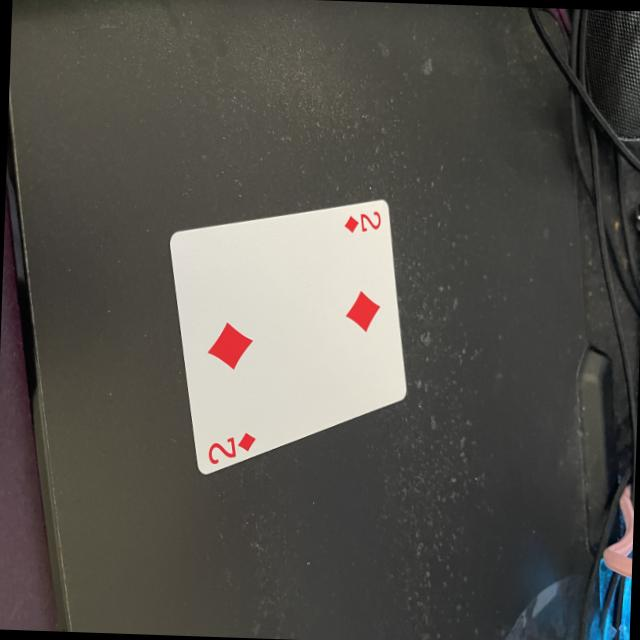2 of diamonds: (170, 201, 404, 474)
